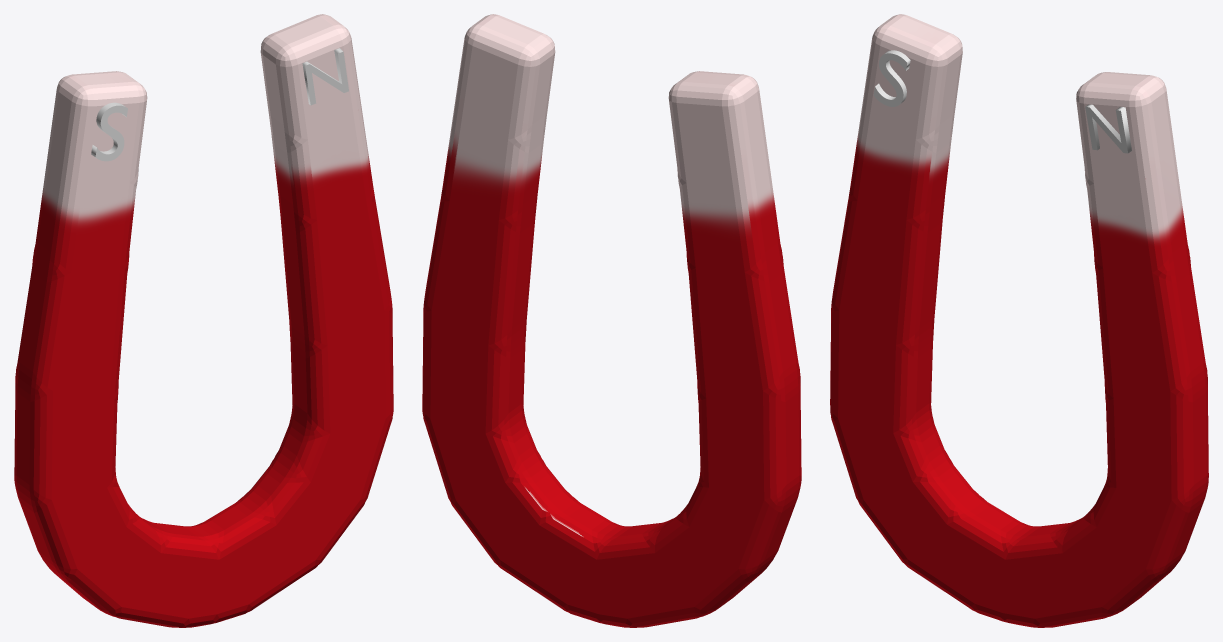
The model's file is MagnecticItem.fbx.
3 renders of one model, left to right at view 1: azimuth 30°, elevation 25°; view 2: azimuth 150°, elevation 25°; view 3: azimuth 330°, elevation 25°, orthographic.
Parts seen in each view (by area): view 1: Plane, S, S.001; view 2: Plane; view 3: Plane, S.001, S.
Part boxes in pixels (box(x1,y1,x2,y2)): Plane: box(14, 14, 393, 627); S: box(91, 102, 127, 161); S.001: box(302, 48, 348, 105); Plane: box(422, 14, 801, 627); Plane: box(830, 14, 1208, 627); S.001: box(1085, 104, 1131, 153); S: box(873, 50, 910, 106).
Size of the model in its own units: 255 by 382 by 41.14.
1 material, 1 textured.
